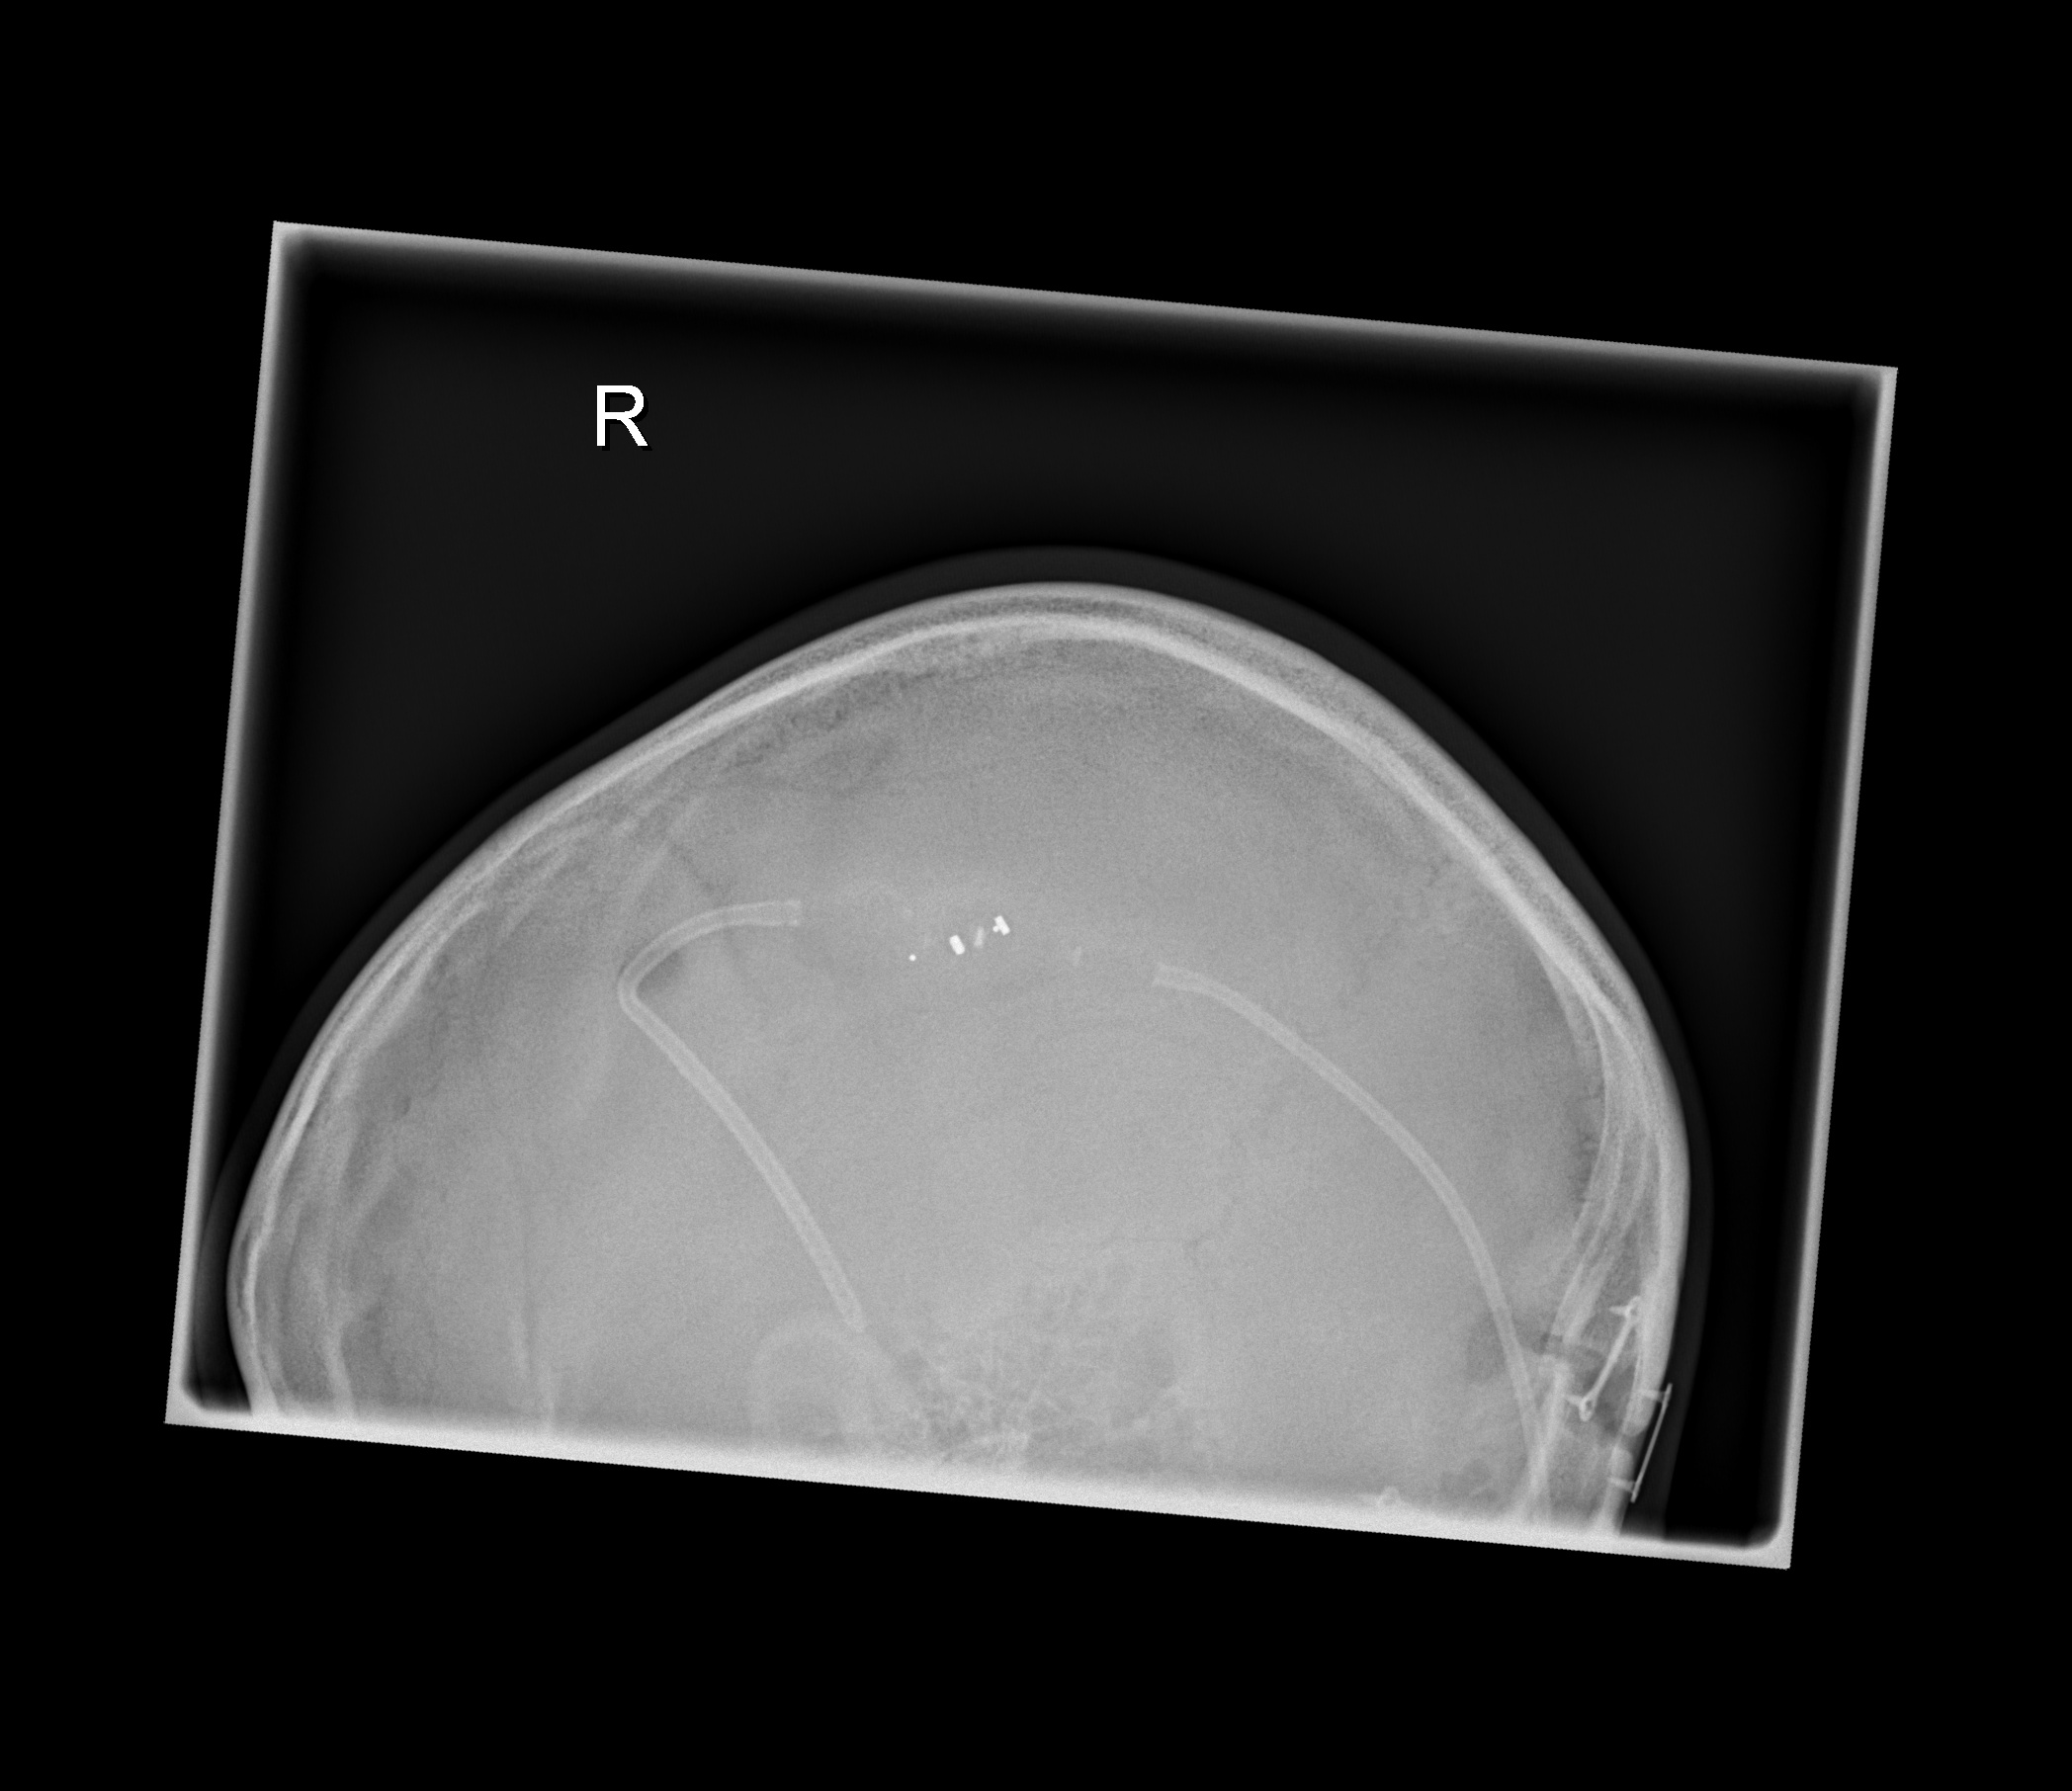Codman Certas: (904, 903, 1038, 990)
